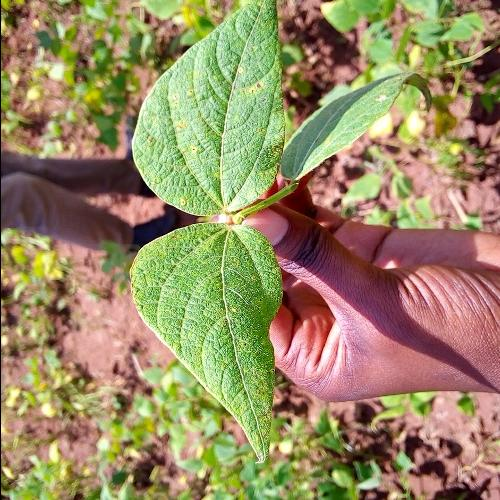0: (147, 26, 310, 177)
embun tepung: (164, 226, 297, 397)
